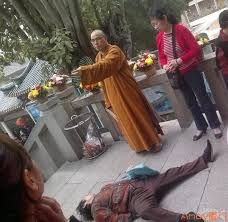falling: (72, 134, 221, 222)
